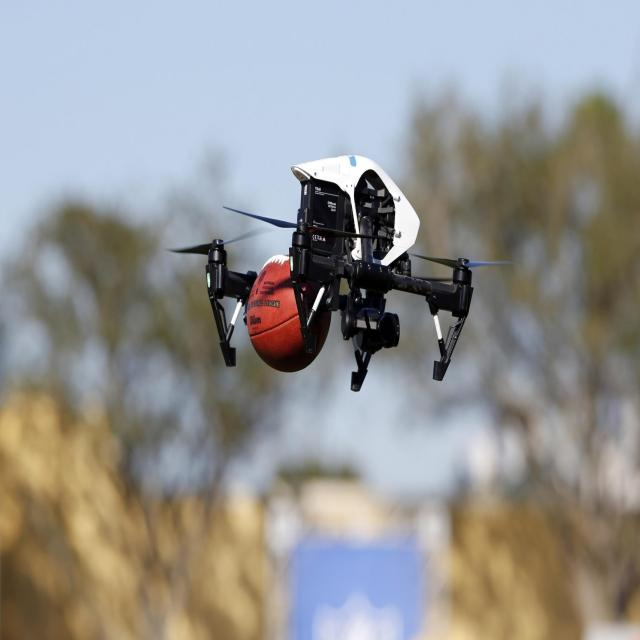drone: (169, 153, 513, 396)
